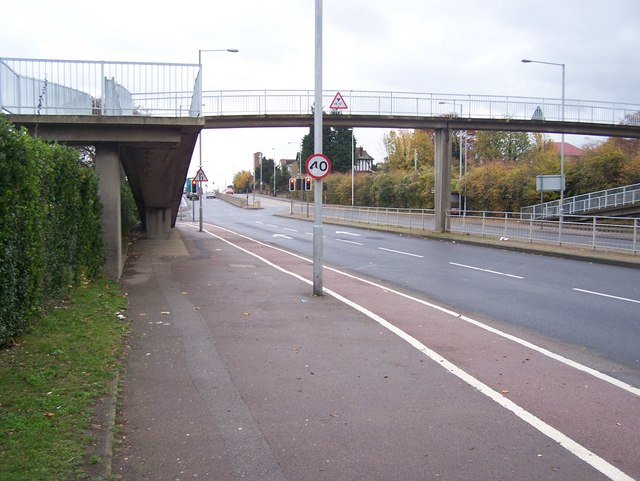bridge: (205, 91, 640, 149)
